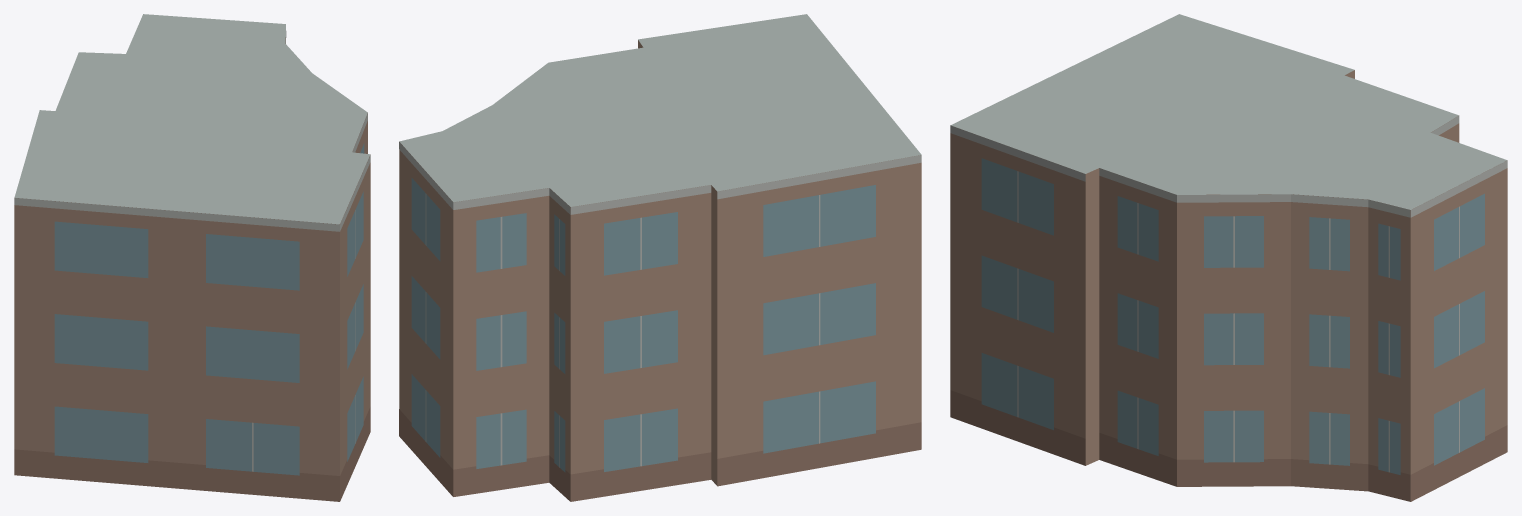
The model's file is survey-upis-32604586.glb.
3 views of the same model, side by side, from view 1: azimuth 30°, elevation 25°; view 2: azimuth 150°, elevation 25°; view 3: azimuth 270°, elevation 25° (orthographic). The views are drawn at different scales.
Parts seen in each view (by area): view 1: survey-upis-32604586.tmp; view 2: survey-upis-32604586.tmp; view 3: survey-upis-32604586.tmp.
Part boxes in pixels (left/top/right/bottom): survey-upis-32604586.tmp: left=14, top=14, right=370, bottom=501; survey-upis-32604586.tmp: left=399, top=14, right=921, bottom=501; survey-upis-32604586.tmp: left=950, top=14, right=1507, bottom=501.
Bounding box in the file's own units: 13.18 × 9.15 × 15.84.
